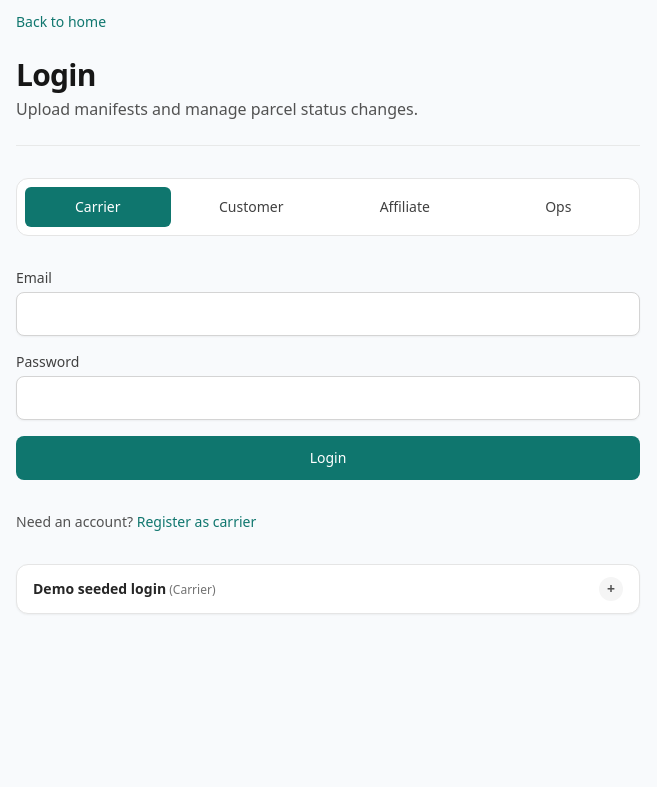
Test: LoginForm › replaces demo credentials in the open panel when switching portal
What coordinates should you click on to do the following:
click the text "Demo seeded login(Carrier)"
I would click on:
 (124, 589)
Its box is top-left (33, 579), bottom-right (216, 599).
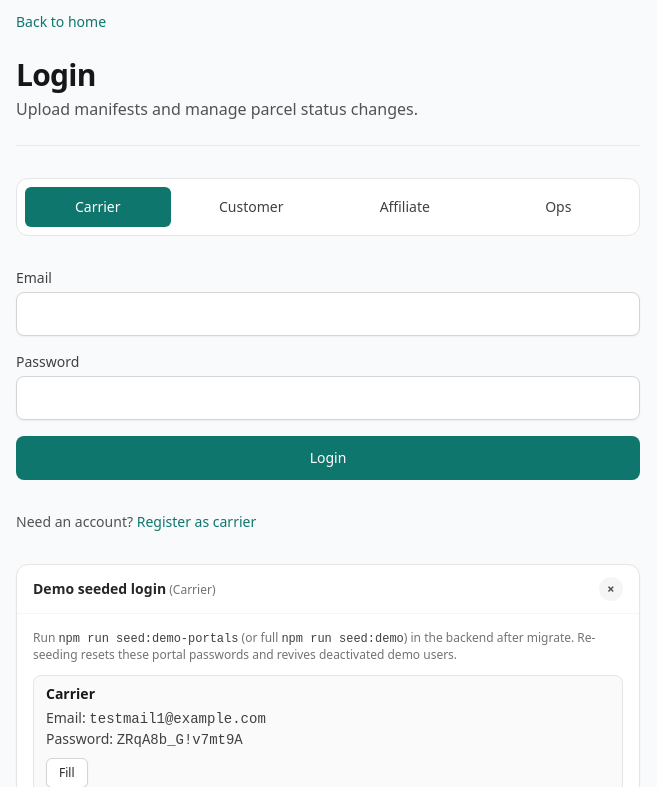
Now the text "testmail1@example.com" is shown, box top-left (89, 711), bottom-right (266, 727)
What coordinates should you click on to do the following:
click the button "Ops"
I would click on:
 (558, 207)
Its box is top-left (486, 187), bottom-right (631, 227).
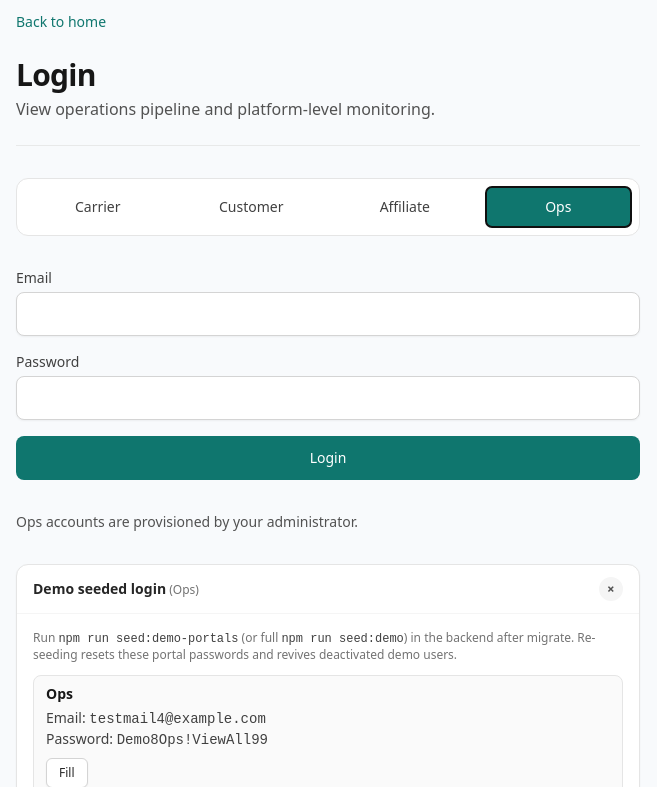
Now the text "testmail1@example.com" is gone
Now the text "testmail4@example.com" is shown, box top-left (89, 711), bottom-right (266, 727)
